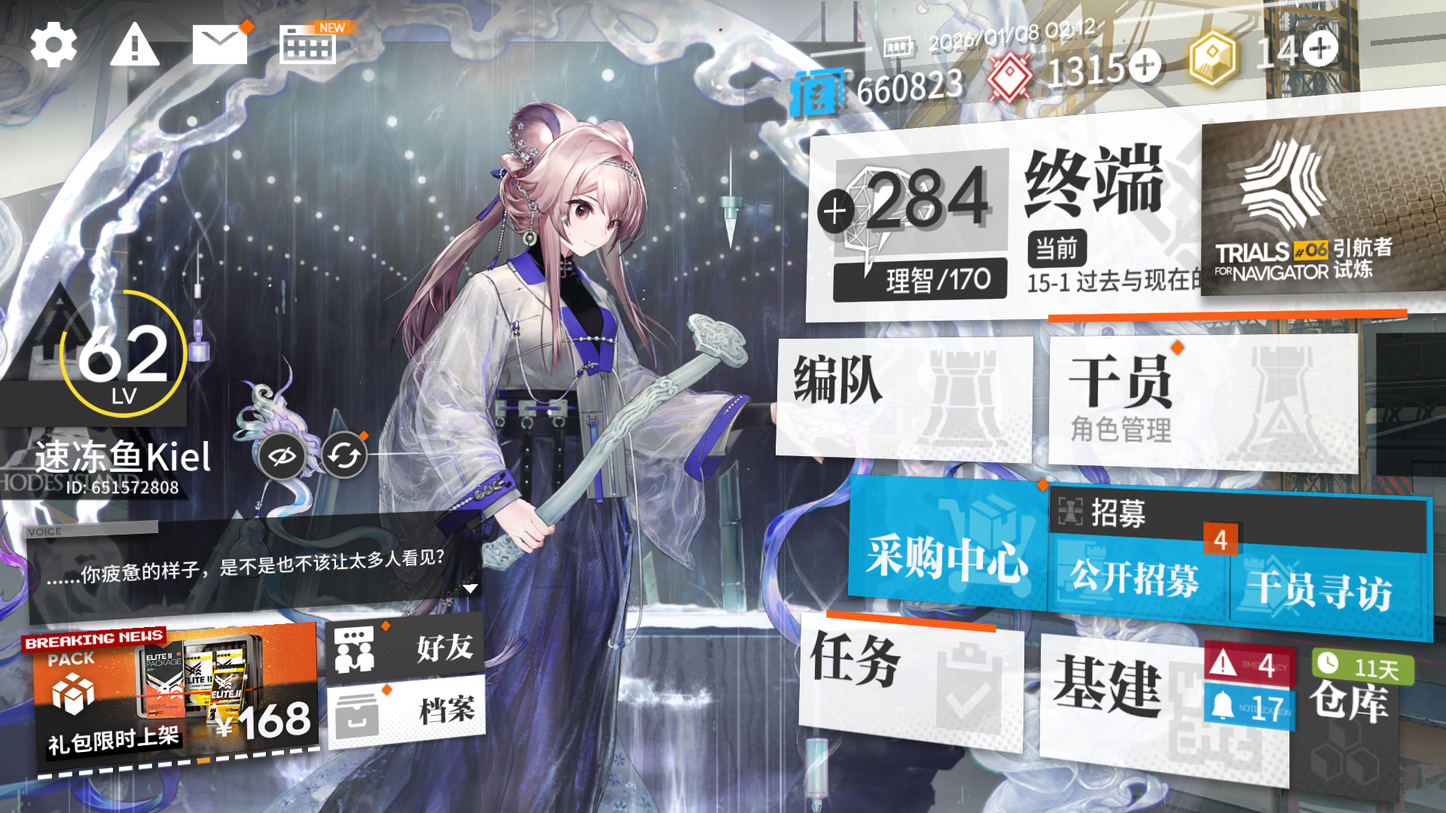infrastructure_button: (1000, 125, 1179, 244)
